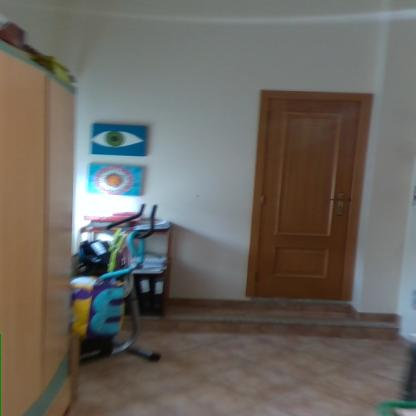closed: (245, 79, 387, 307)
